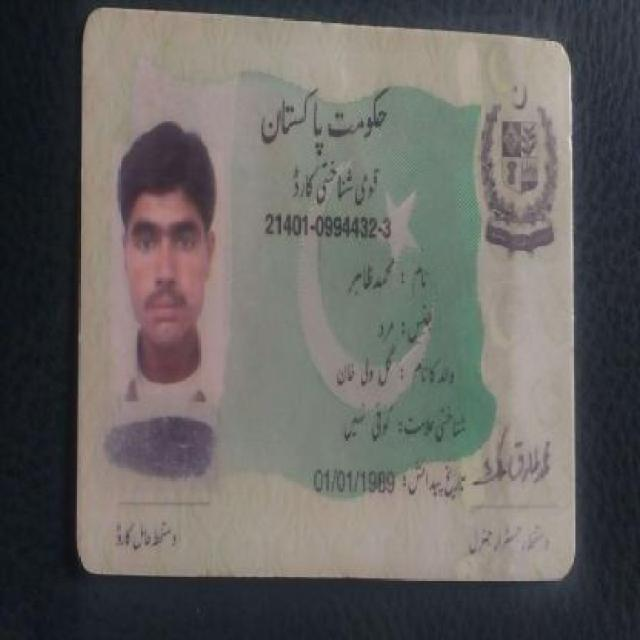Front: (77, 2, 575, 584)
